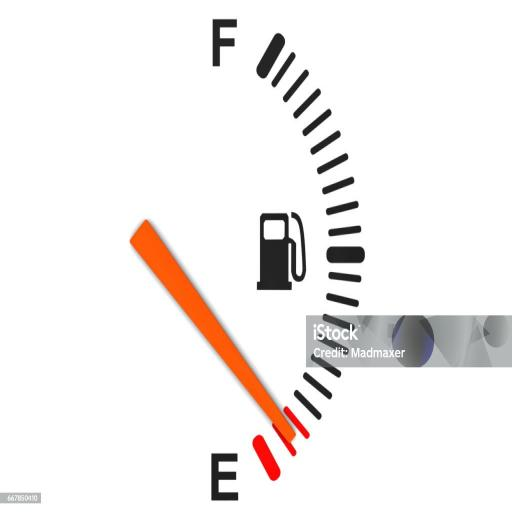empty: (207, 444, 240, 510)
fuel_icon: (257, 213, 311, 295)
full: (208, 18, 238, 67)
guage_area: (114, 13, 370, 507)
needle_center: (120, 204, 174, 271)
needle_tip: (279, 424, 298, 450)
